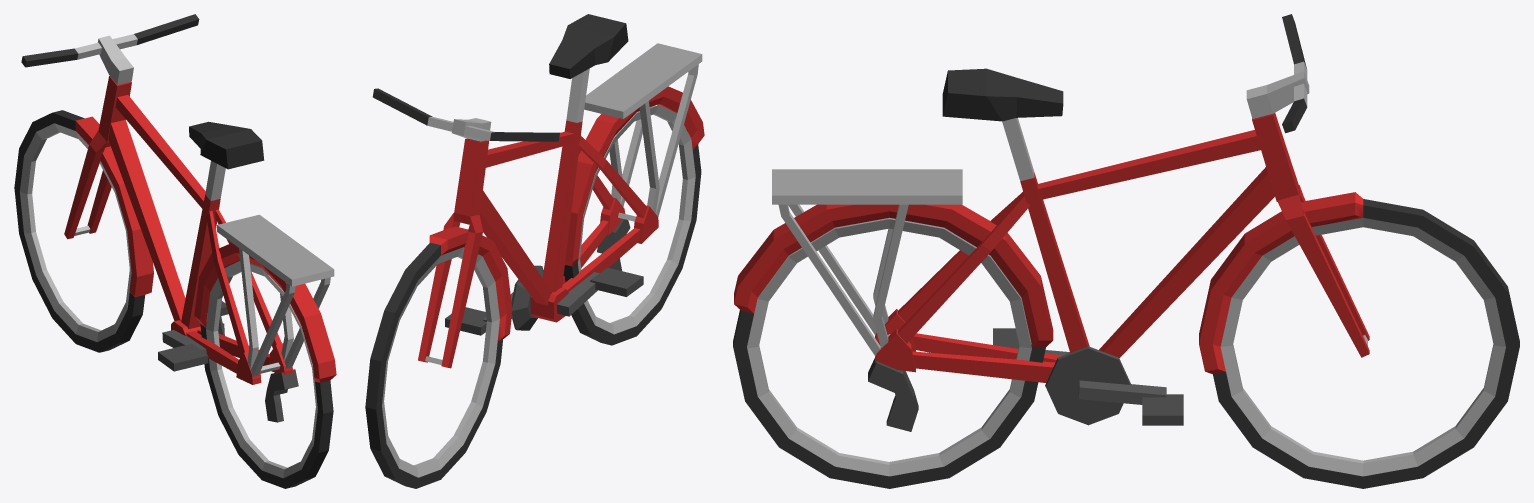
Rendered from bike.fbx.
3 renders of one model, left to right at view 1: azimuth 30°, elevation 25°; view 2: azimuth 150°, elevation 25°; view 3: azimuth 270°, elevation 25°, orthographic. The views are drawn at different scales.
Parts seen in each view (by area): view 1: bike_commuter_frame_Cube.006, front.001, pannier_rack.001_Cube.019, tyres_rear_fender.001_Cube.020, tyres_front_fender.001_Cube.021, cranks.001_Cube.016; view 2: bike_commuter_frame_Cube.006, front.001, tyres_front_fender.001_Cube.021, pannier_rack.001_Cube.019, tyres_rear_fender.001_Cube.020, cranks.001_Cube.016; view 3: bike_commuter_frame_Cube.006, front.001, tyres_rear_fender.001_Cube.020, tyres_front_fender.001_Cube.021, pannier_rack.001_Cube.019, cranks.001_Cube.016.
Boxes of the visible parts, <box> form: bike_commuter_frame_Cube.006: <box>98,76,317,478</box>; front.001: <box>19,14,199,342</box>; pannier_rack.001_Cube.019: <box>217,214,334,376</box>; tyres_rear_fender.001_Cube.020: <box>194,243,336,488</box>; tyres_front_fender.001_Cube.021: <box>14,110,153,352</box>; cranks.001_Cube.016: <box>158,301,228,371</box>; bike_commuter_frame_Cube.006: <box>454,14,695,334</box>; front.001: <box>372,88,559,477</box>; tyres_front_fender.001_Cube.021: <box>365,226,512,488</box>; pannier_rack.001_Cube.019: <box>584,43,702,217</box>; tyres_rear_fender.001_Cube.020: <box>563,86,704,345</box>; cranks.001_Cube.016: <box>445,265,643,335</box>; bike_commuter_frame_Cube.006: <box>747,68,1298,476</box>; front.001: <box>1220,14,1505,476</box>; tyres_rear_fender.001_Cube.020: <box>733,204,1053,488</box>; tyres_front_fender.001_Cube.021: <box>1199,192,1519,488</box>; pannier_rack.001_Cube.019: <box>772,169,962,356</box>; cranks.001_Cube.016: <box>993,328,1183,425</box>.
Bounding box in the file's own units: 55.4 × 101 × 172.
